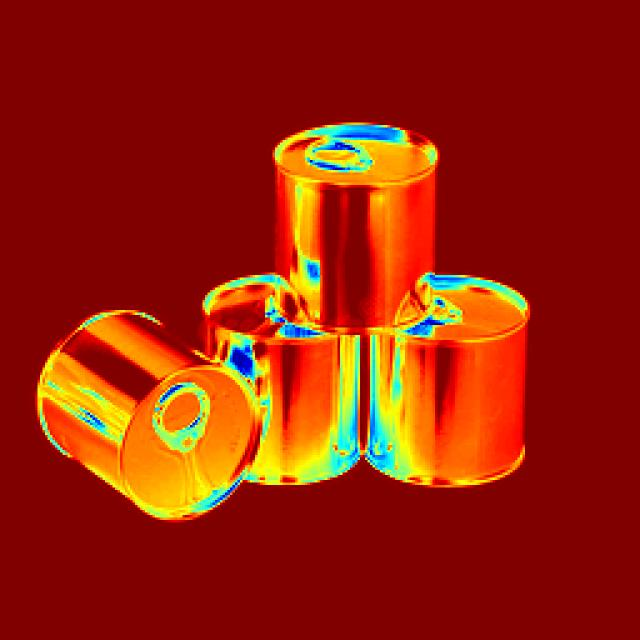Aluminium Food Cans: (30, 298, 255, 552), (370, 260, 533, 498), (264, 122, 458, 316), (205, 278, 352, 500)
